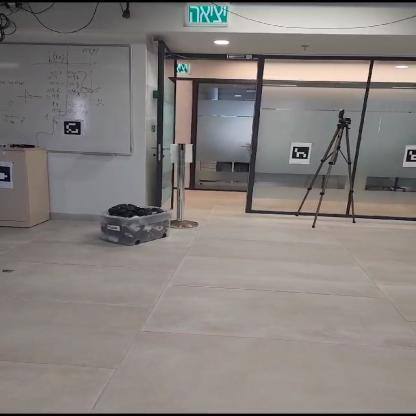open: (162, 78, 263, 213)
